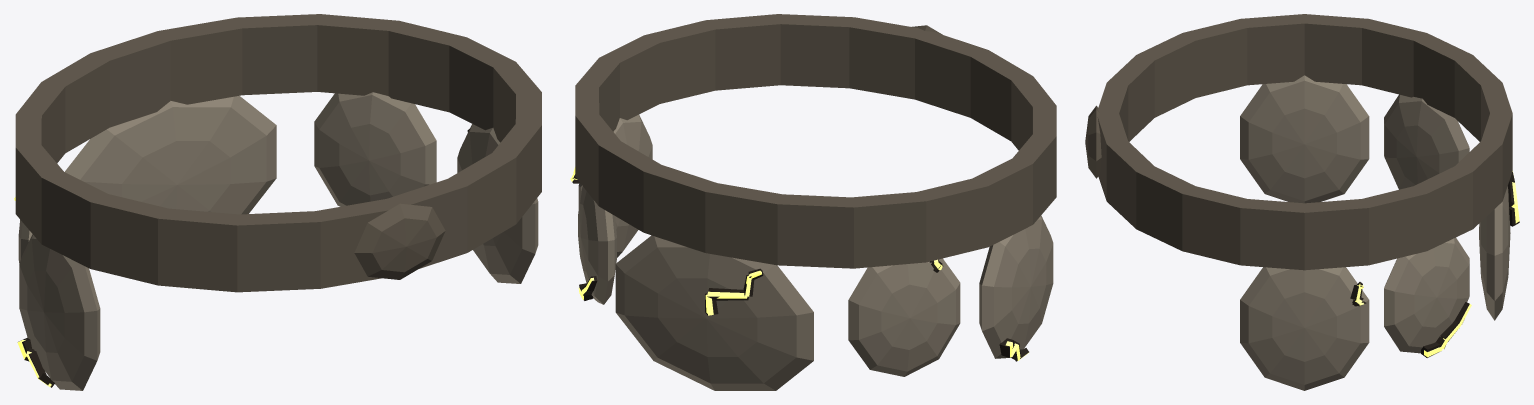
File: unmoving_champion_belt.glb
3 renders of one model, left to right at view 1: azimuth 30°, elevation 25°; view 2: azimuth 150°, elevation 25°; view 3: azimuth 270°, elevation 25°, orthographic. The views are drawn at different scales.
Visible parts, largest first — view 1: unmoving_champion_belt; view 2: unmoving_champion_belt; view 3: unmoving_champion_belt.
Part boxes in pixels (<box>): unmoving_champion_belt: <box>14,14,541,390</box>; unmoving_champion_belt: <box>570,14,1056,390</box>; unmoving_champion_belt: <box>1085,14,1519,390</box>.
Size of the model in its own units: 1.04 by 0.482 by 0.9606.
